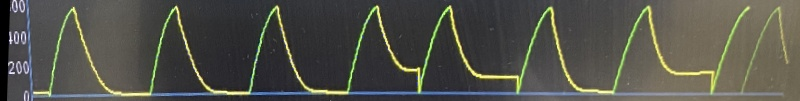leakage: (344, 0, 720, 101)
normal_volume: (43, 0, 336, 101)
